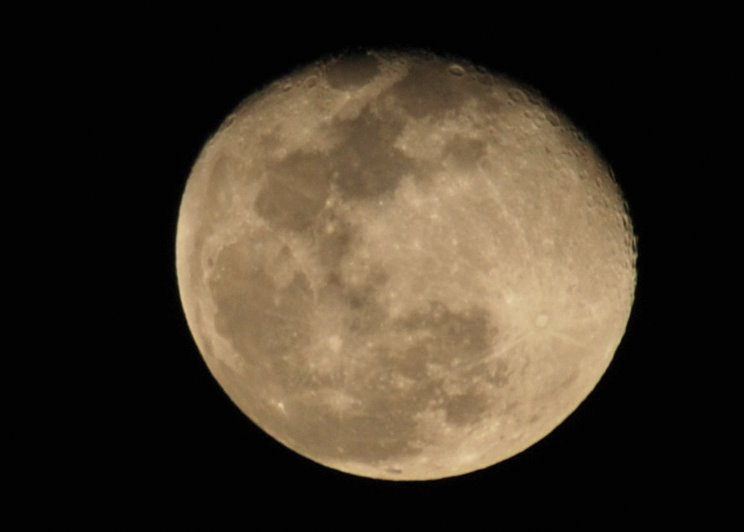crater: (525, 300, 559, 346), (322, 385, 361, 416), (319, 326, 353, 359), (200, 252, 225, 277), (539, 109, 565, 133), (375, 461, 411, 478), (329, 438, 356, 457), (446, 59, 468, 82), (299, 69, 321, 92), (271, 395, 291, 420)
